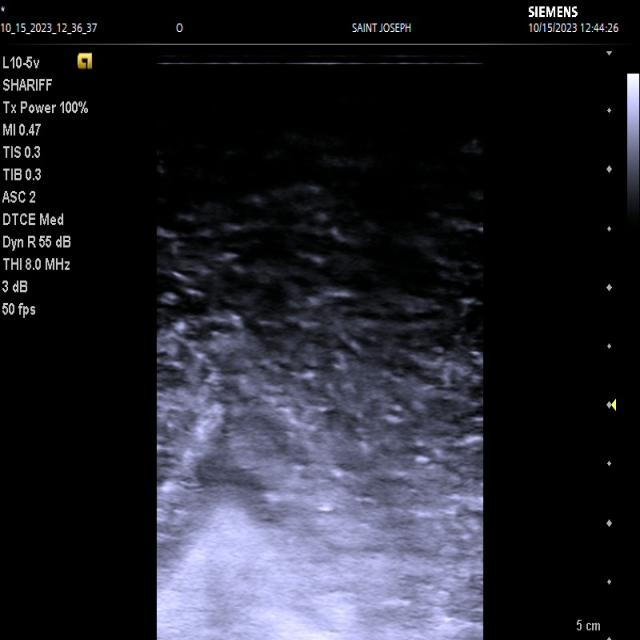tissue: (157, 460, 482, 640)
